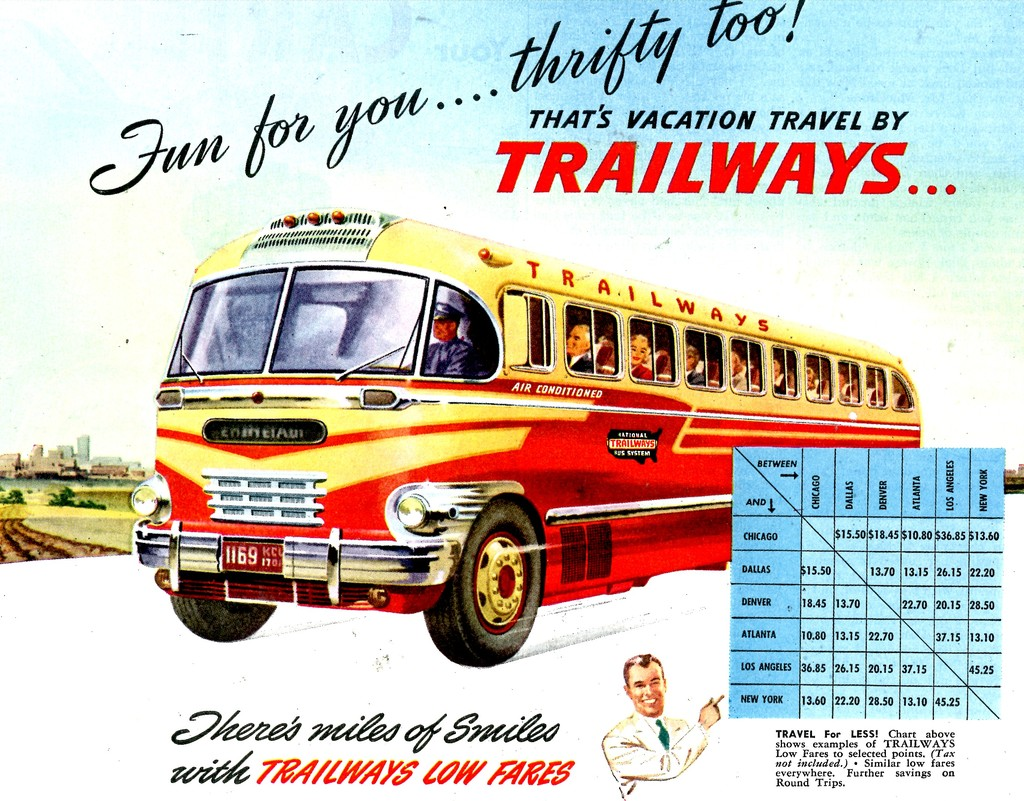Bus: (130, 206, 923, 668)
